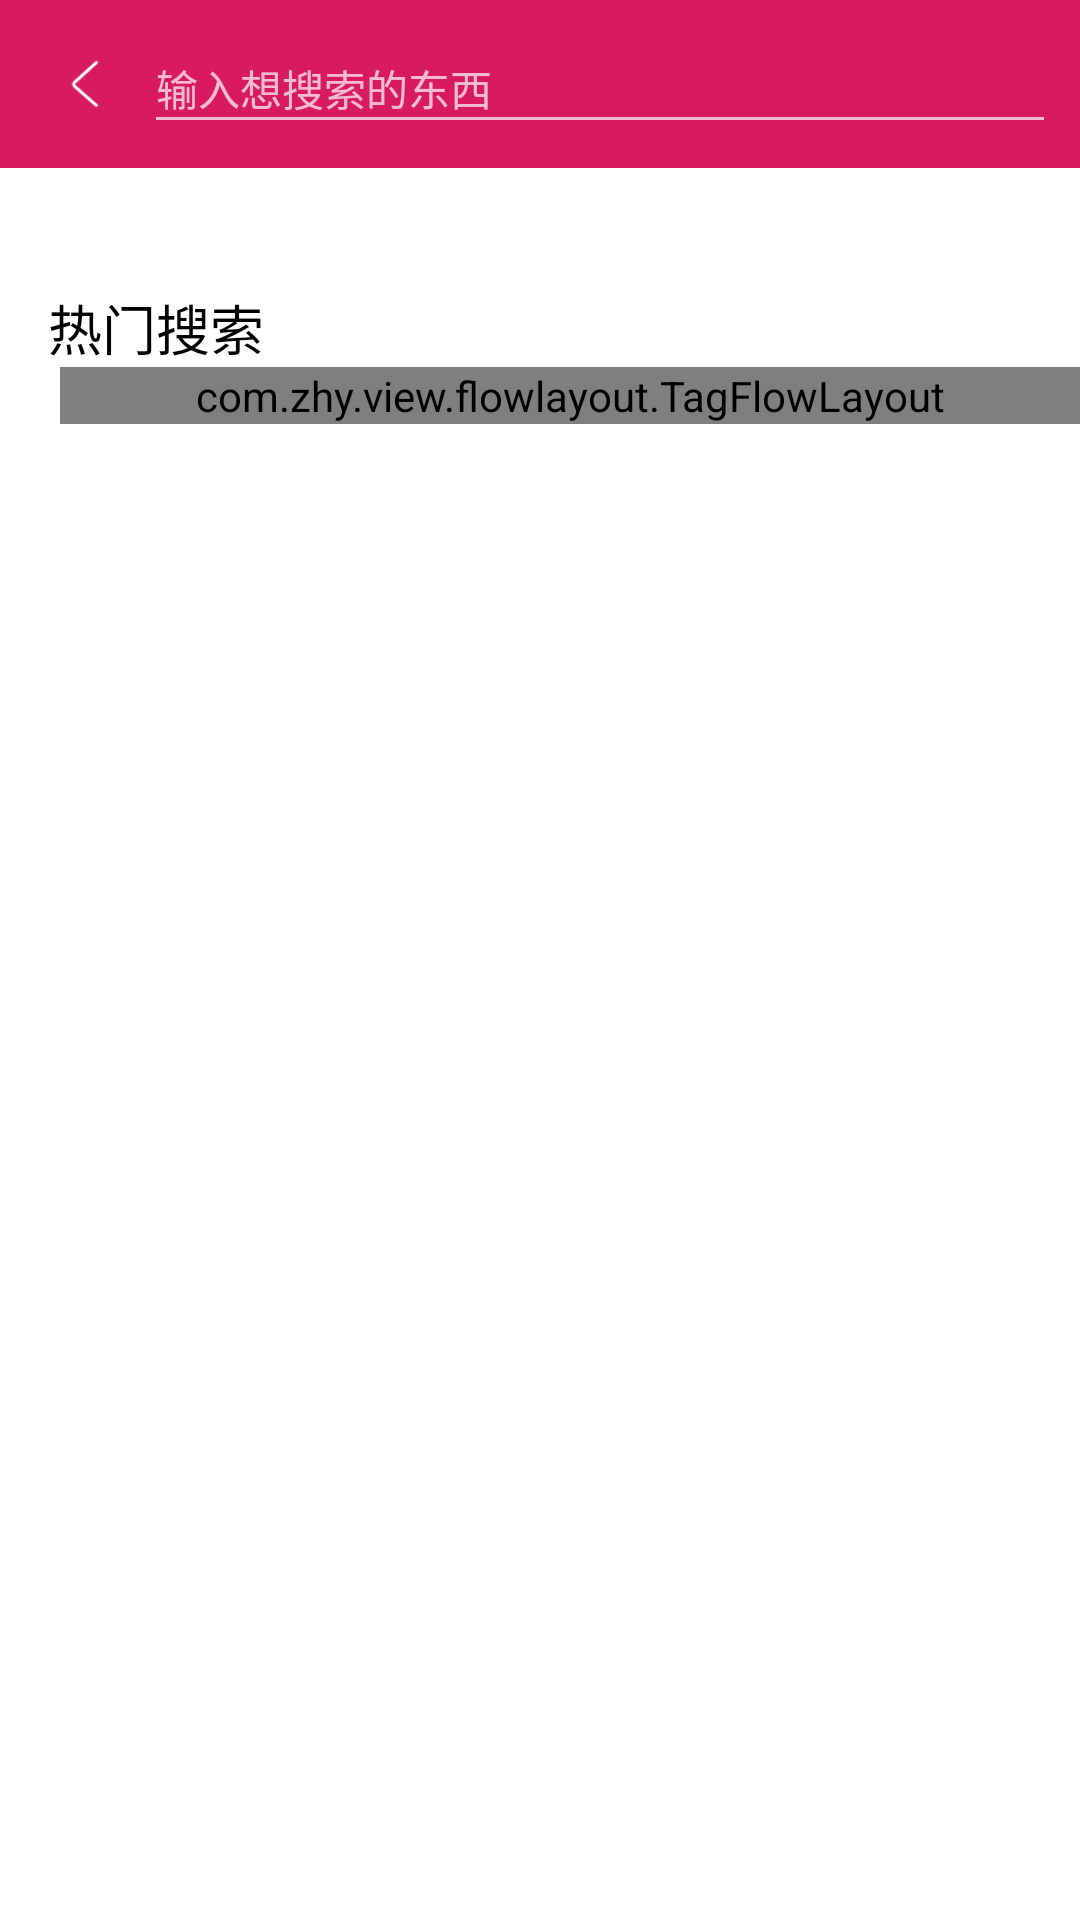

Where icons sit on this 1080 x 1920 app screen, as {"x1": x1, "y1": y1, "x2": x2, "y2": y2}:
后退: {"x1": 71, "y1": 60, "x2": 99, "y2": 108}
